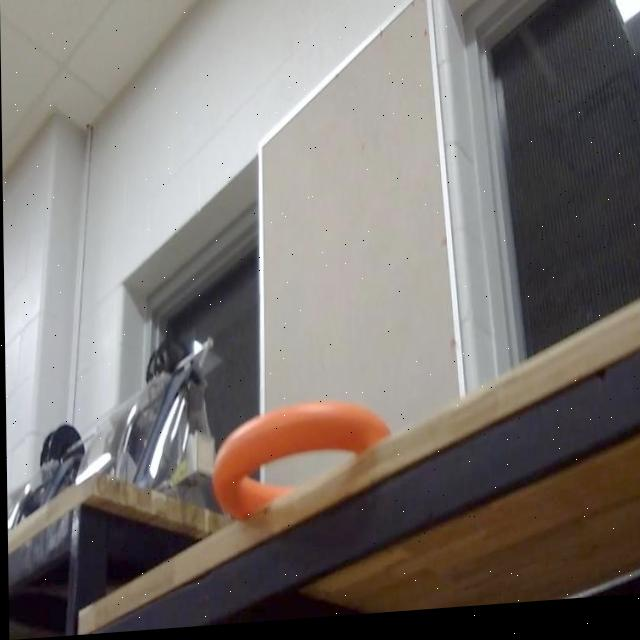note: (210, 399, 392, 525)
